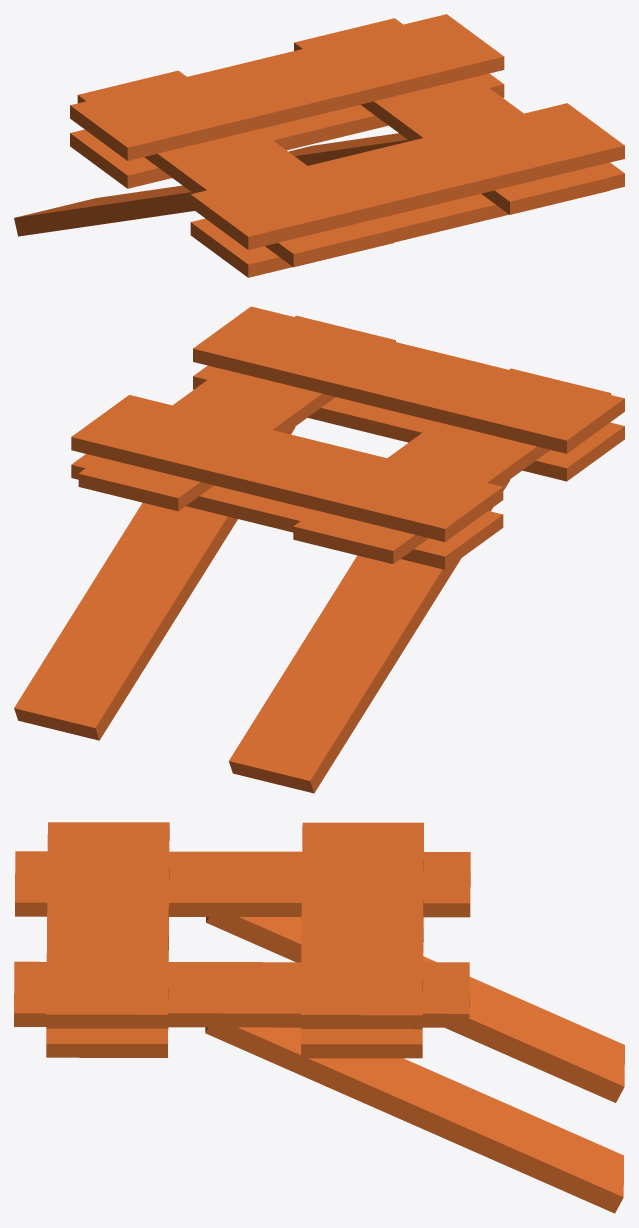
The model's file is pallet.fbx.
3 renders of one model, top to bottom at view 1: azimuth 30°, elevation 25°; view 2: azimuth 150°, elevation 25°; view 3: azimuth 270°, elevation 25°, orthographic. The views are drawn at different scales.
Visible parts, largest first — view 1: Pallet; view 2: Pallet; view 3: Pallet.
Part boxes in pixels (<box>): Pallet: <box>14,14,624,277</box>; Pallet: <box>14,306,624,793</box>; Pallet: <box>14,822,624,1213</box>.
Bounding box in the file's own units: 42.42 × 22.37 × 56.76.
